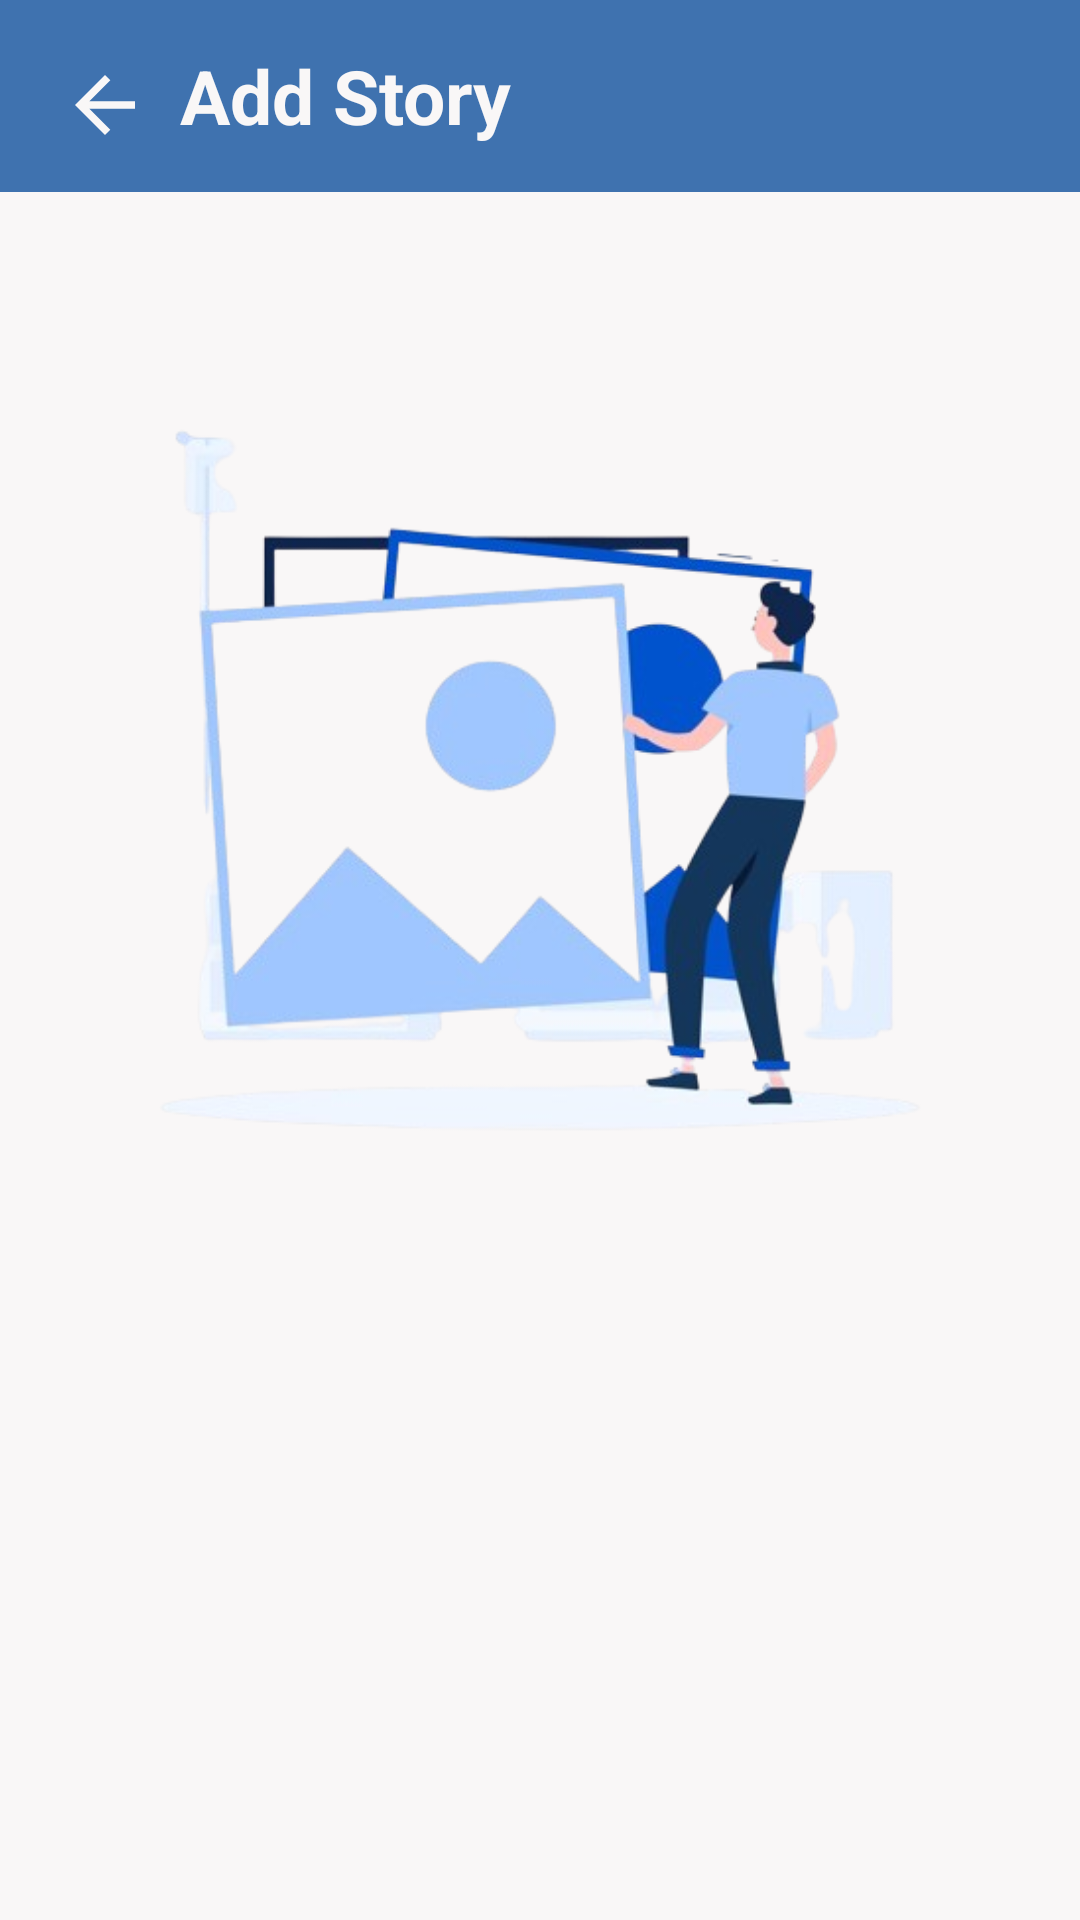

Where icons sit on this 1080×1920 app screen, as box(x1, y1, x2, y2):
Back: box(75, 75, 135, 135)
